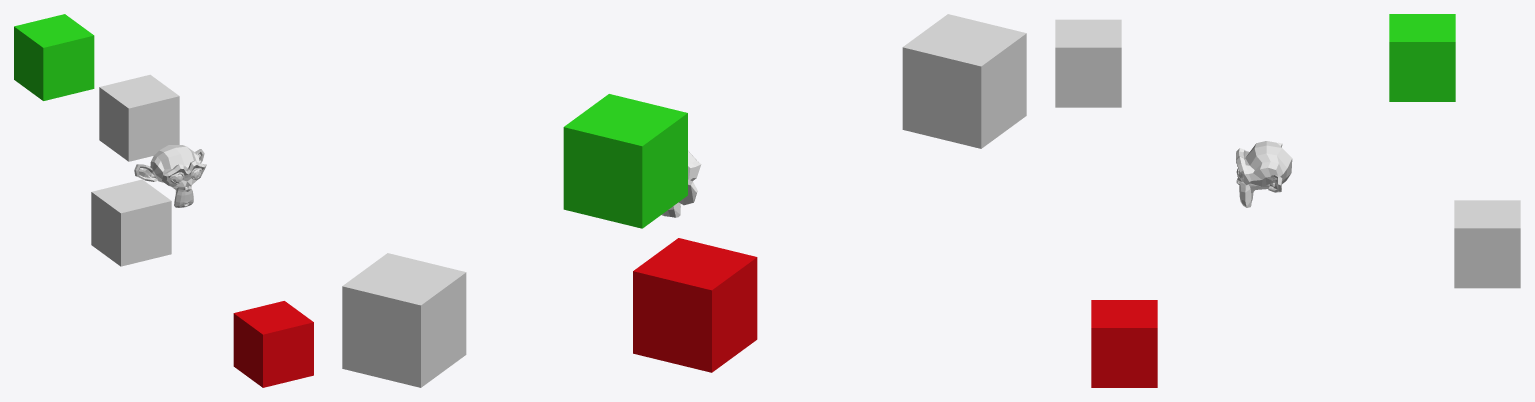
The model's file is SceneLoaderTest.gltf.
3 renders of one model, left to right at view 1: azimuth 30°, elevation 25°; view 2: azimuth 150°, elevation 25°; view 3: azimuth 270°, elevation 25°, orthographic. The views are drawn at different scales.
Parts seen in each view (by area): view 1: Cube.003, Cube.002, Cube.001, Cube, Suzanne; view 2: Cube.002, Cube.001, Cube.003, Cube, Suzanne; view 3: Cube.003, Cube, Cube.002, Cube.001, Suzanne.
Part boxes in pixels (x1,y1,x2,y2): Cube.003: [91, 179, 171, 266]; Cube.002: [233, 301, 313, 387]; Cube.001: [14, 14, 94, 100]; Cube: [99, 74, 179, 161]; Suzanne: [134, 145, 206, 207]; Cube.002: [633, 238, 757, 372]; Cube.001: [563, 94, 687, 228]; Cube.003: [902, 14, 1026, 148]; Cube: [342, 253, 466, 387]; Suzanne: [661, 150, 701, 217]; Cube.003: [1055, 19, 1121, 107]; Cube: [1454, 200, 1520, 288]; Cube.002: [1091, 300, 1157, 387]; Cube.001: [1389, 14, 1455, 101]; Suzanne: [1236, 141, 1292, 207].
Bounding box in the file's own units: 9.27 × 9.93 × 14.04.
